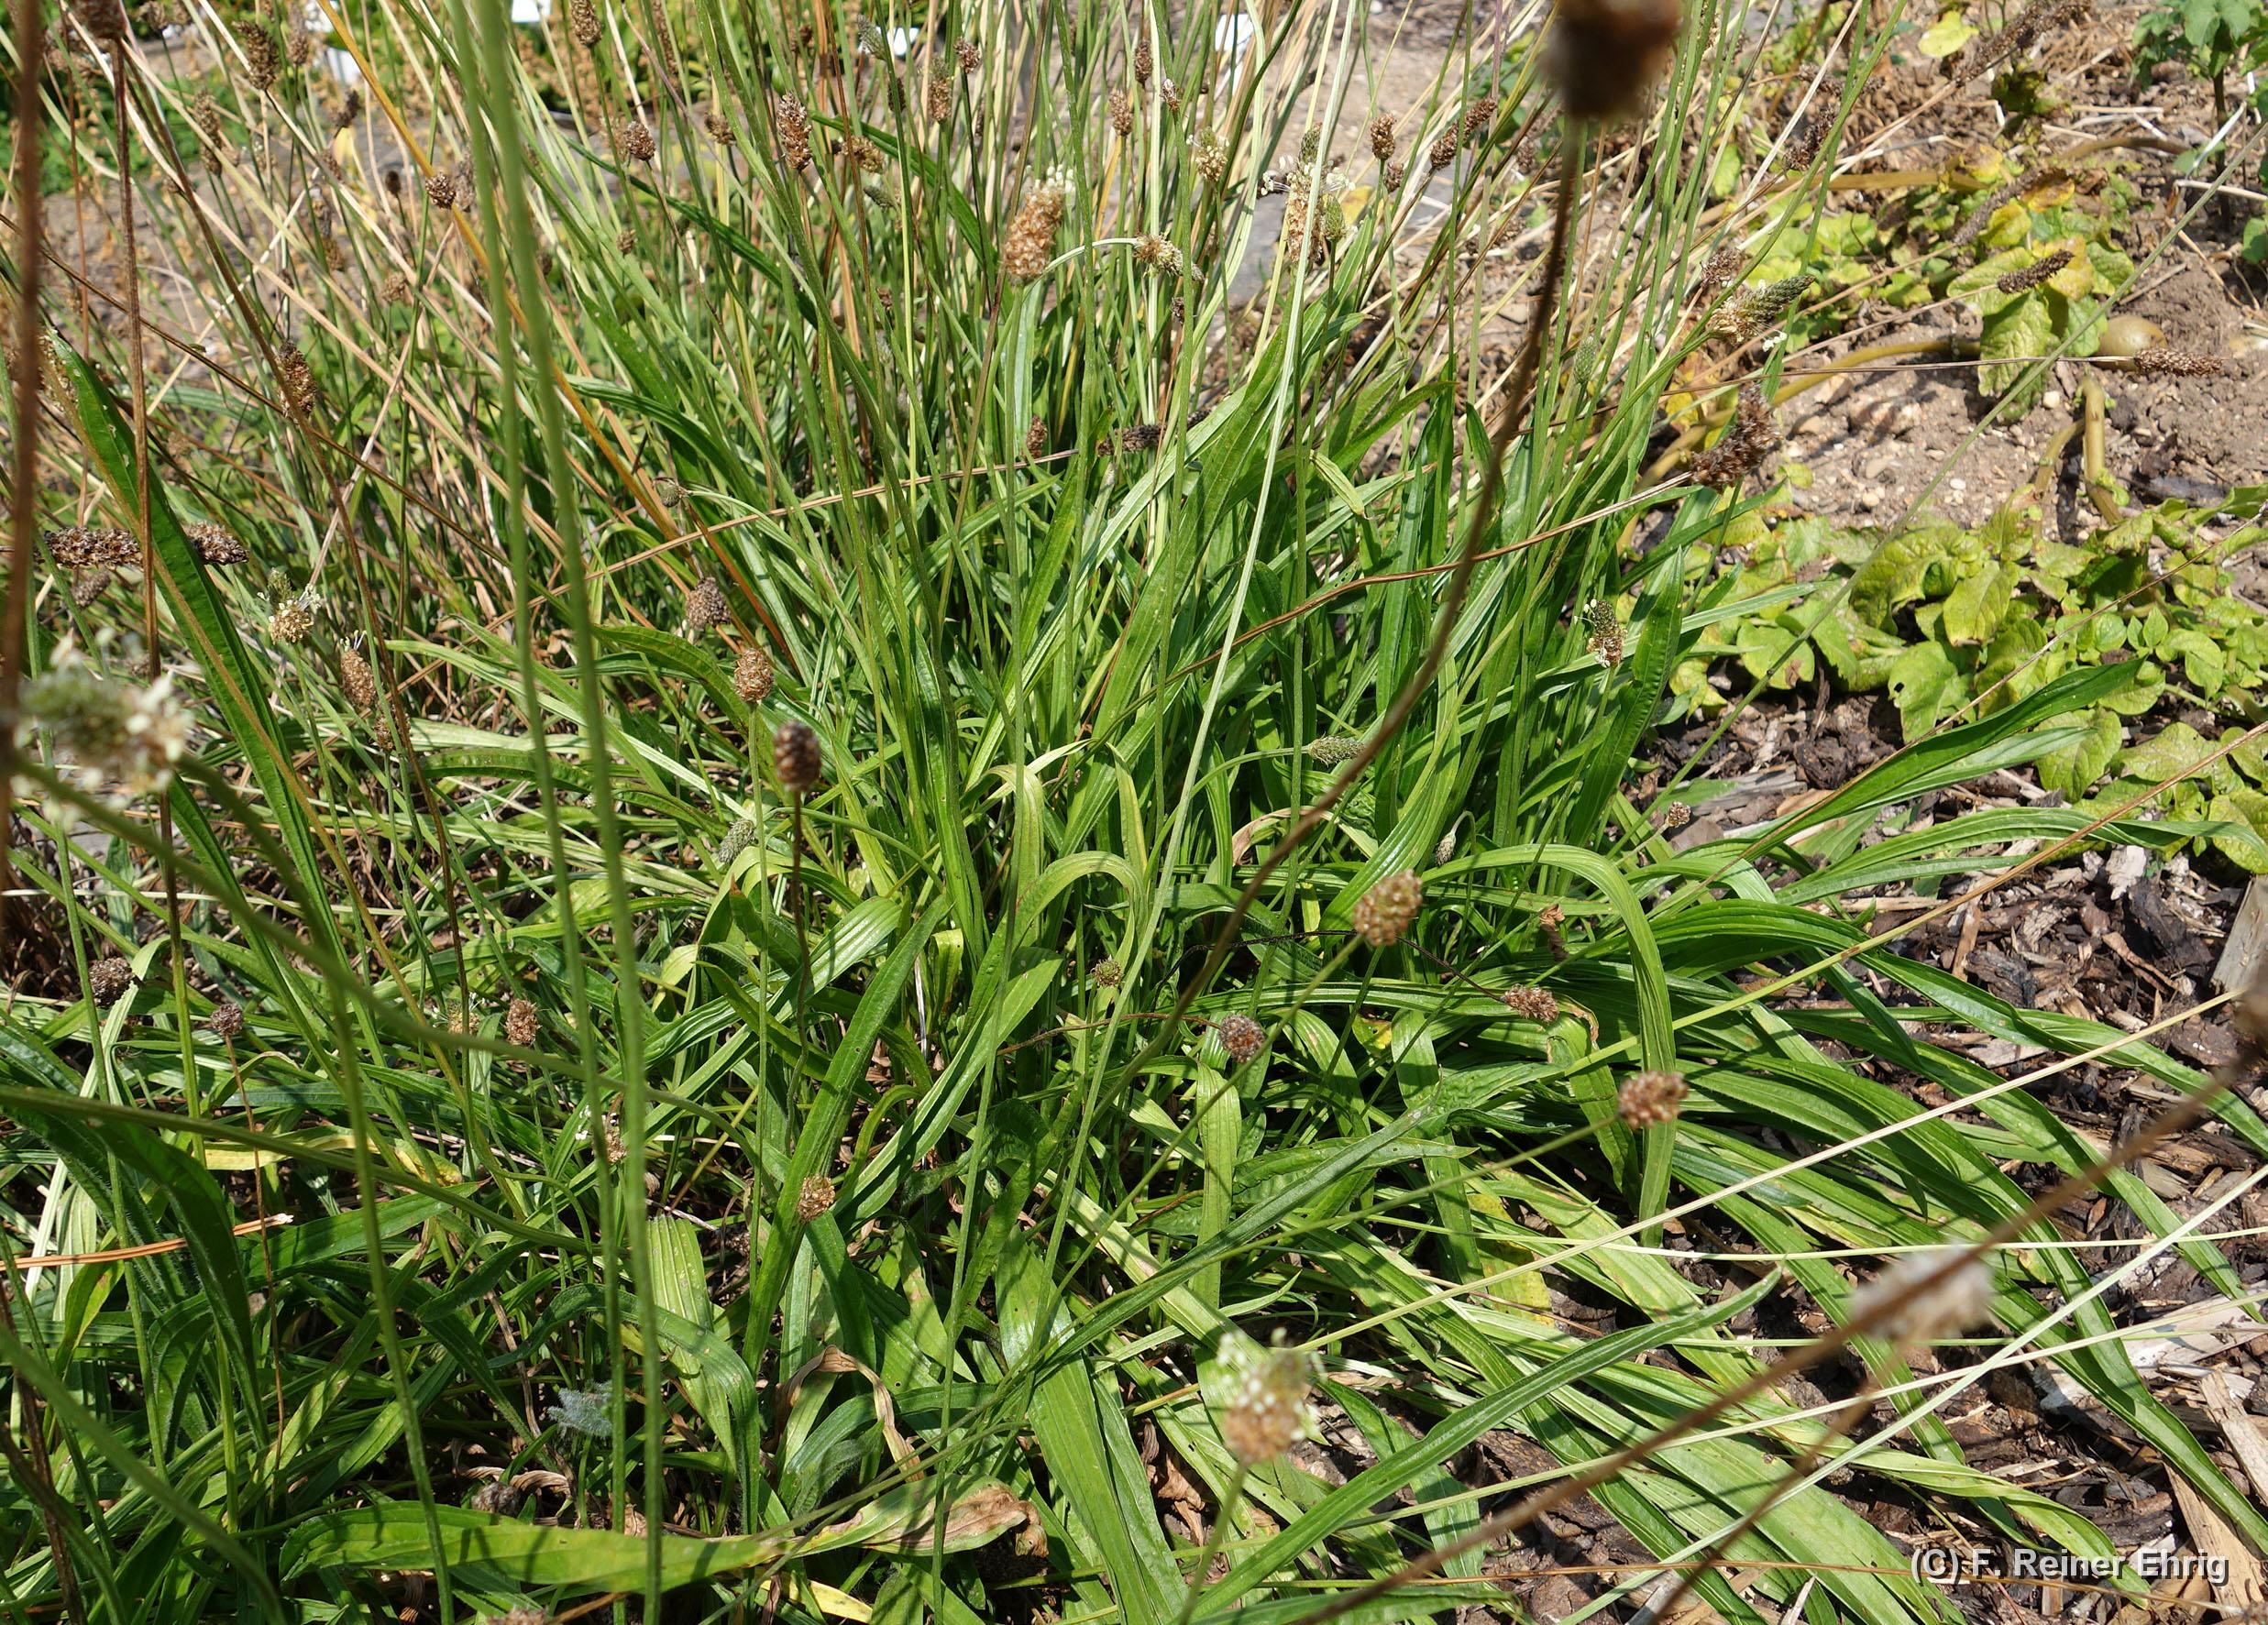buckhorn plantain: (199, 19, 1589, 1527)
